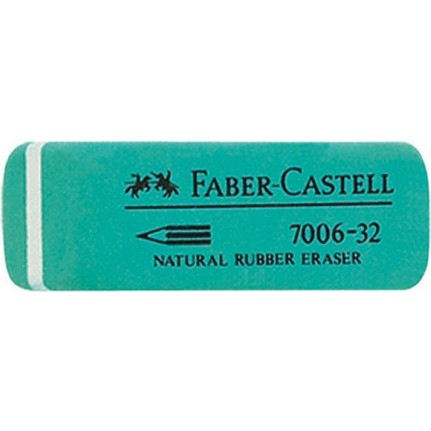eraser: (1, 135, 429, 291)
